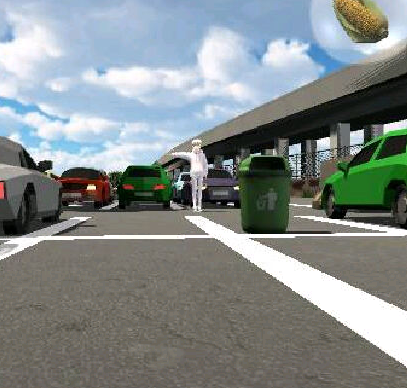singleP_left: (168, 137, 212, 215)
